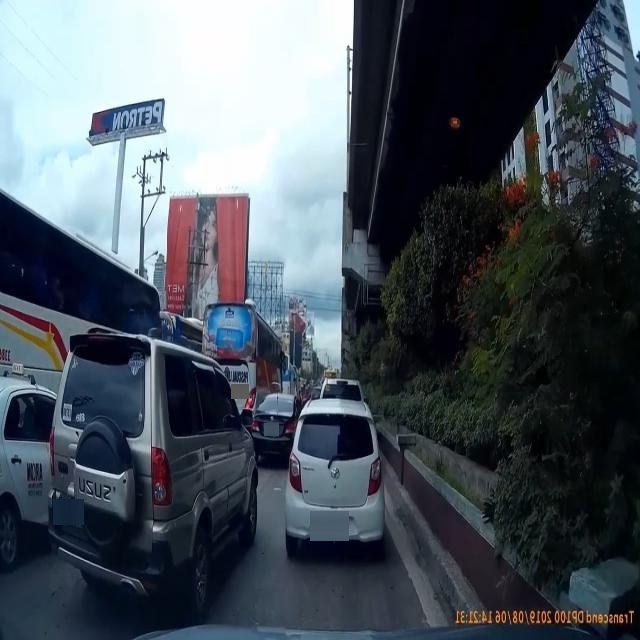bus: (0, 209, 158, 430), (193, 321, 285, 428)
car: (256, 333, 591, 620), (47, 364, 265, 610), (280, 404, 384, 574), (249, 389, 310, 466)
